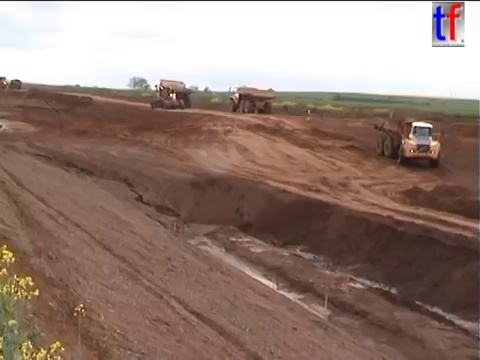motor grader: (148, 83, 187, 111)
truck: (370, 107, 446, 168), (226, 83, 279, 115), (153, 77, 194, 110), (8, 77, 24, 92), (1, 74, 8, 90)
